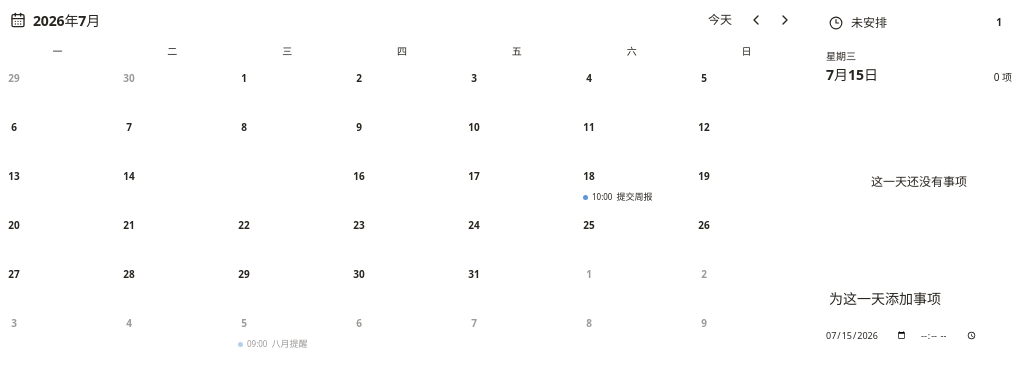
Scenario: CalendarView › drags a timed task to an adjacent-month cell without also opening details
What coordinates should you click on to do the following:
click the button with class "calendar-task" showing "10:00 提交周报"
I would click on:
 (632, 197)
Its box is [579, 188, 685, 206].
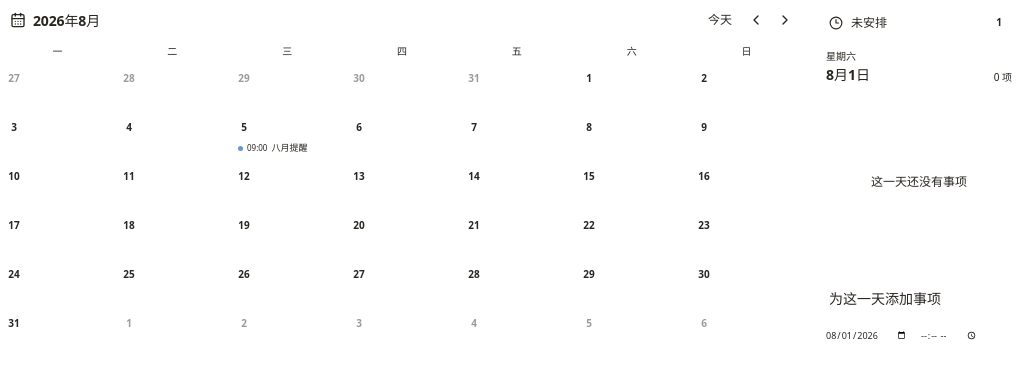
Now the text "2026年8月" is shown, box [33, 10, 100, 30]
